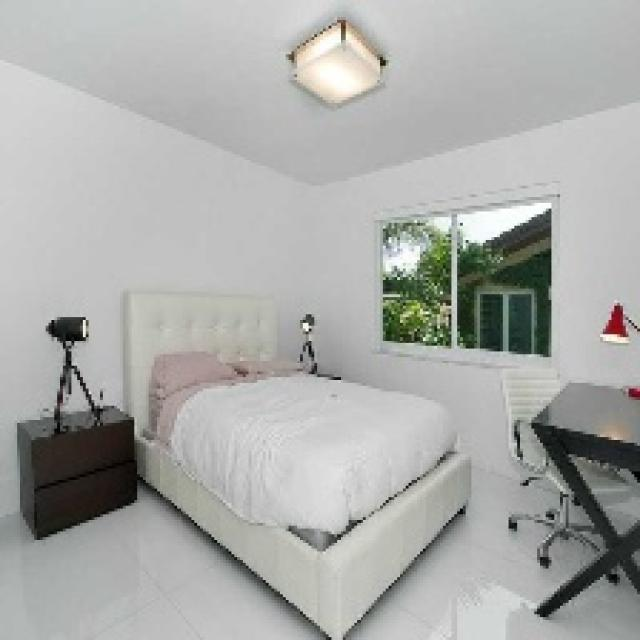Bed: (120, 289, 471, 637)
